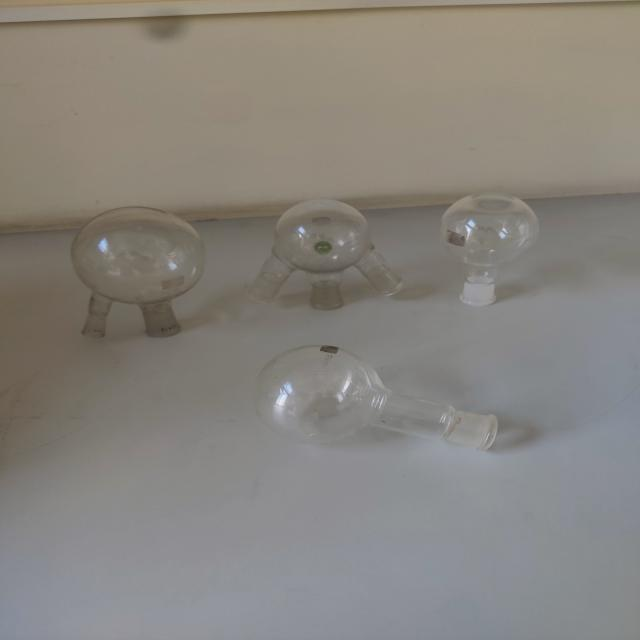Round_Bottom_Flask_Borosilicate_Glass_1_Neck: (231, 327, 527, 478), (427, 176, 558, 322)
Round_Bottom_Flask_Borosilicate_Glass_2_Neck: (50, 189, 218, 344)
Round_Bottom_Flask_Borosilicate_Glass_3_Neck: (242, 165, 420, 331)
